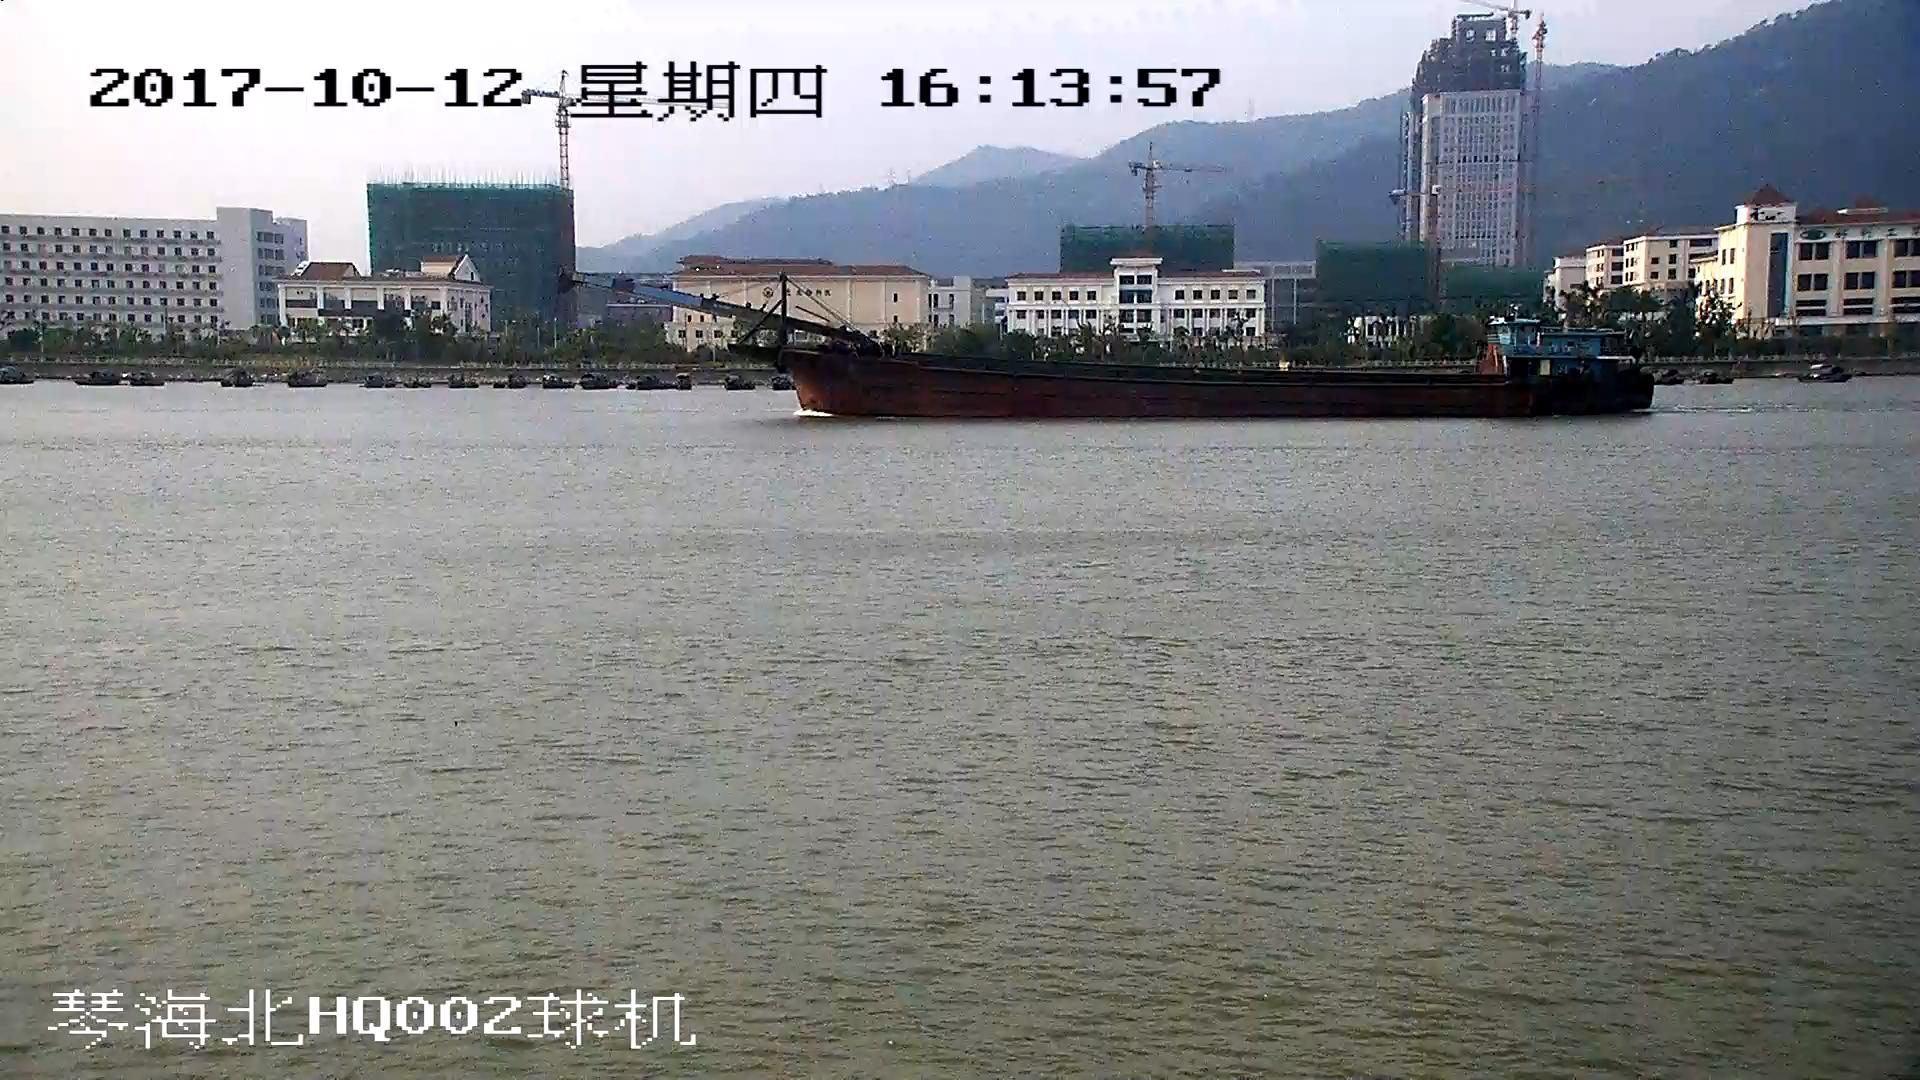bulk cargo carrier: (566, 273, 1652, 419)
